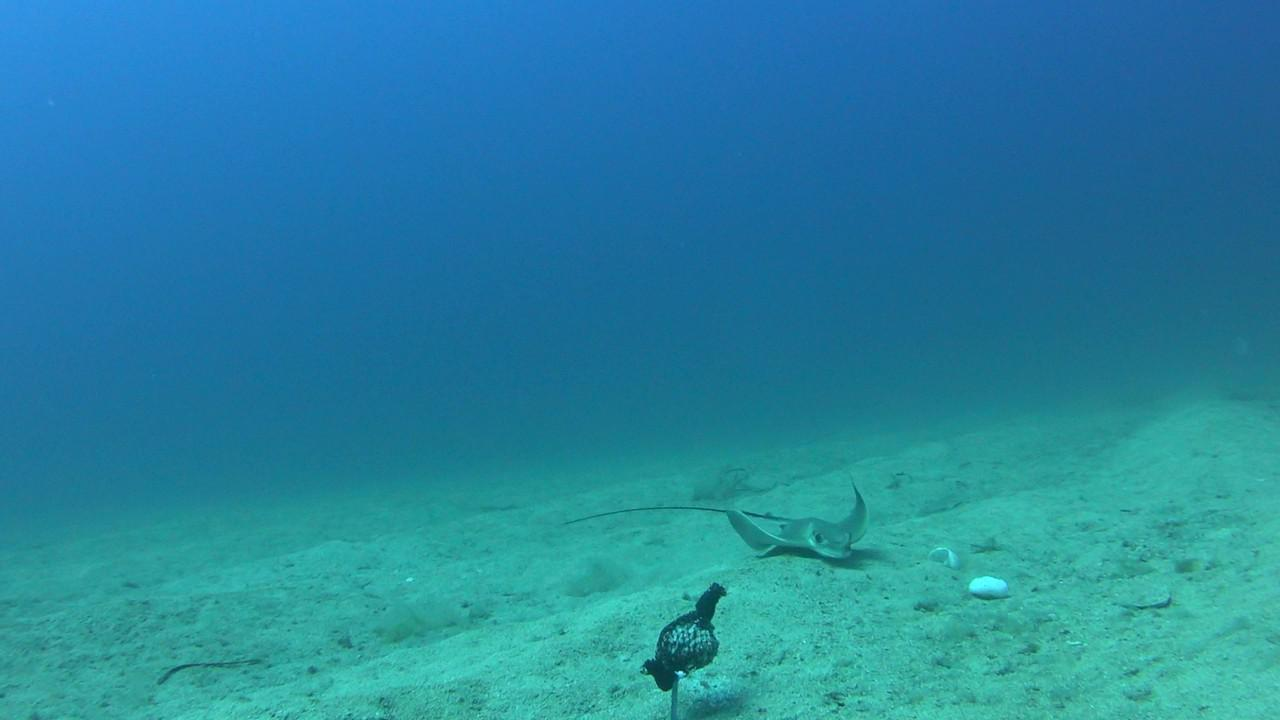myliobatis: (545, 479, 903, 570)
